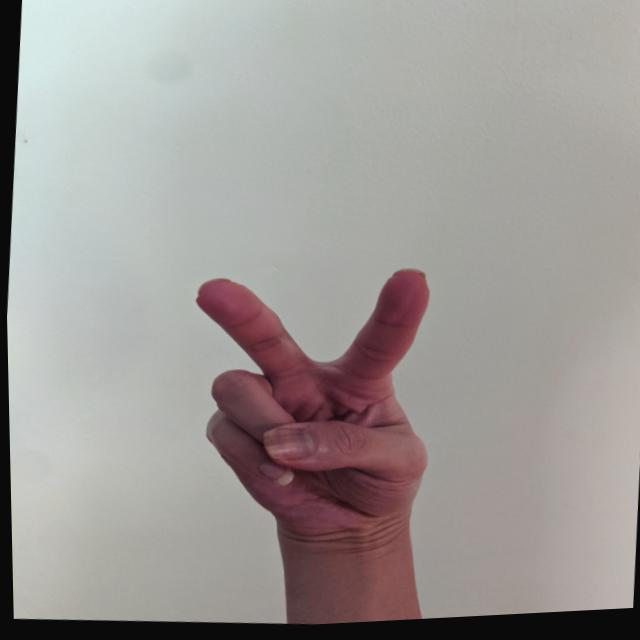V: (168, 250, 450, 549)
